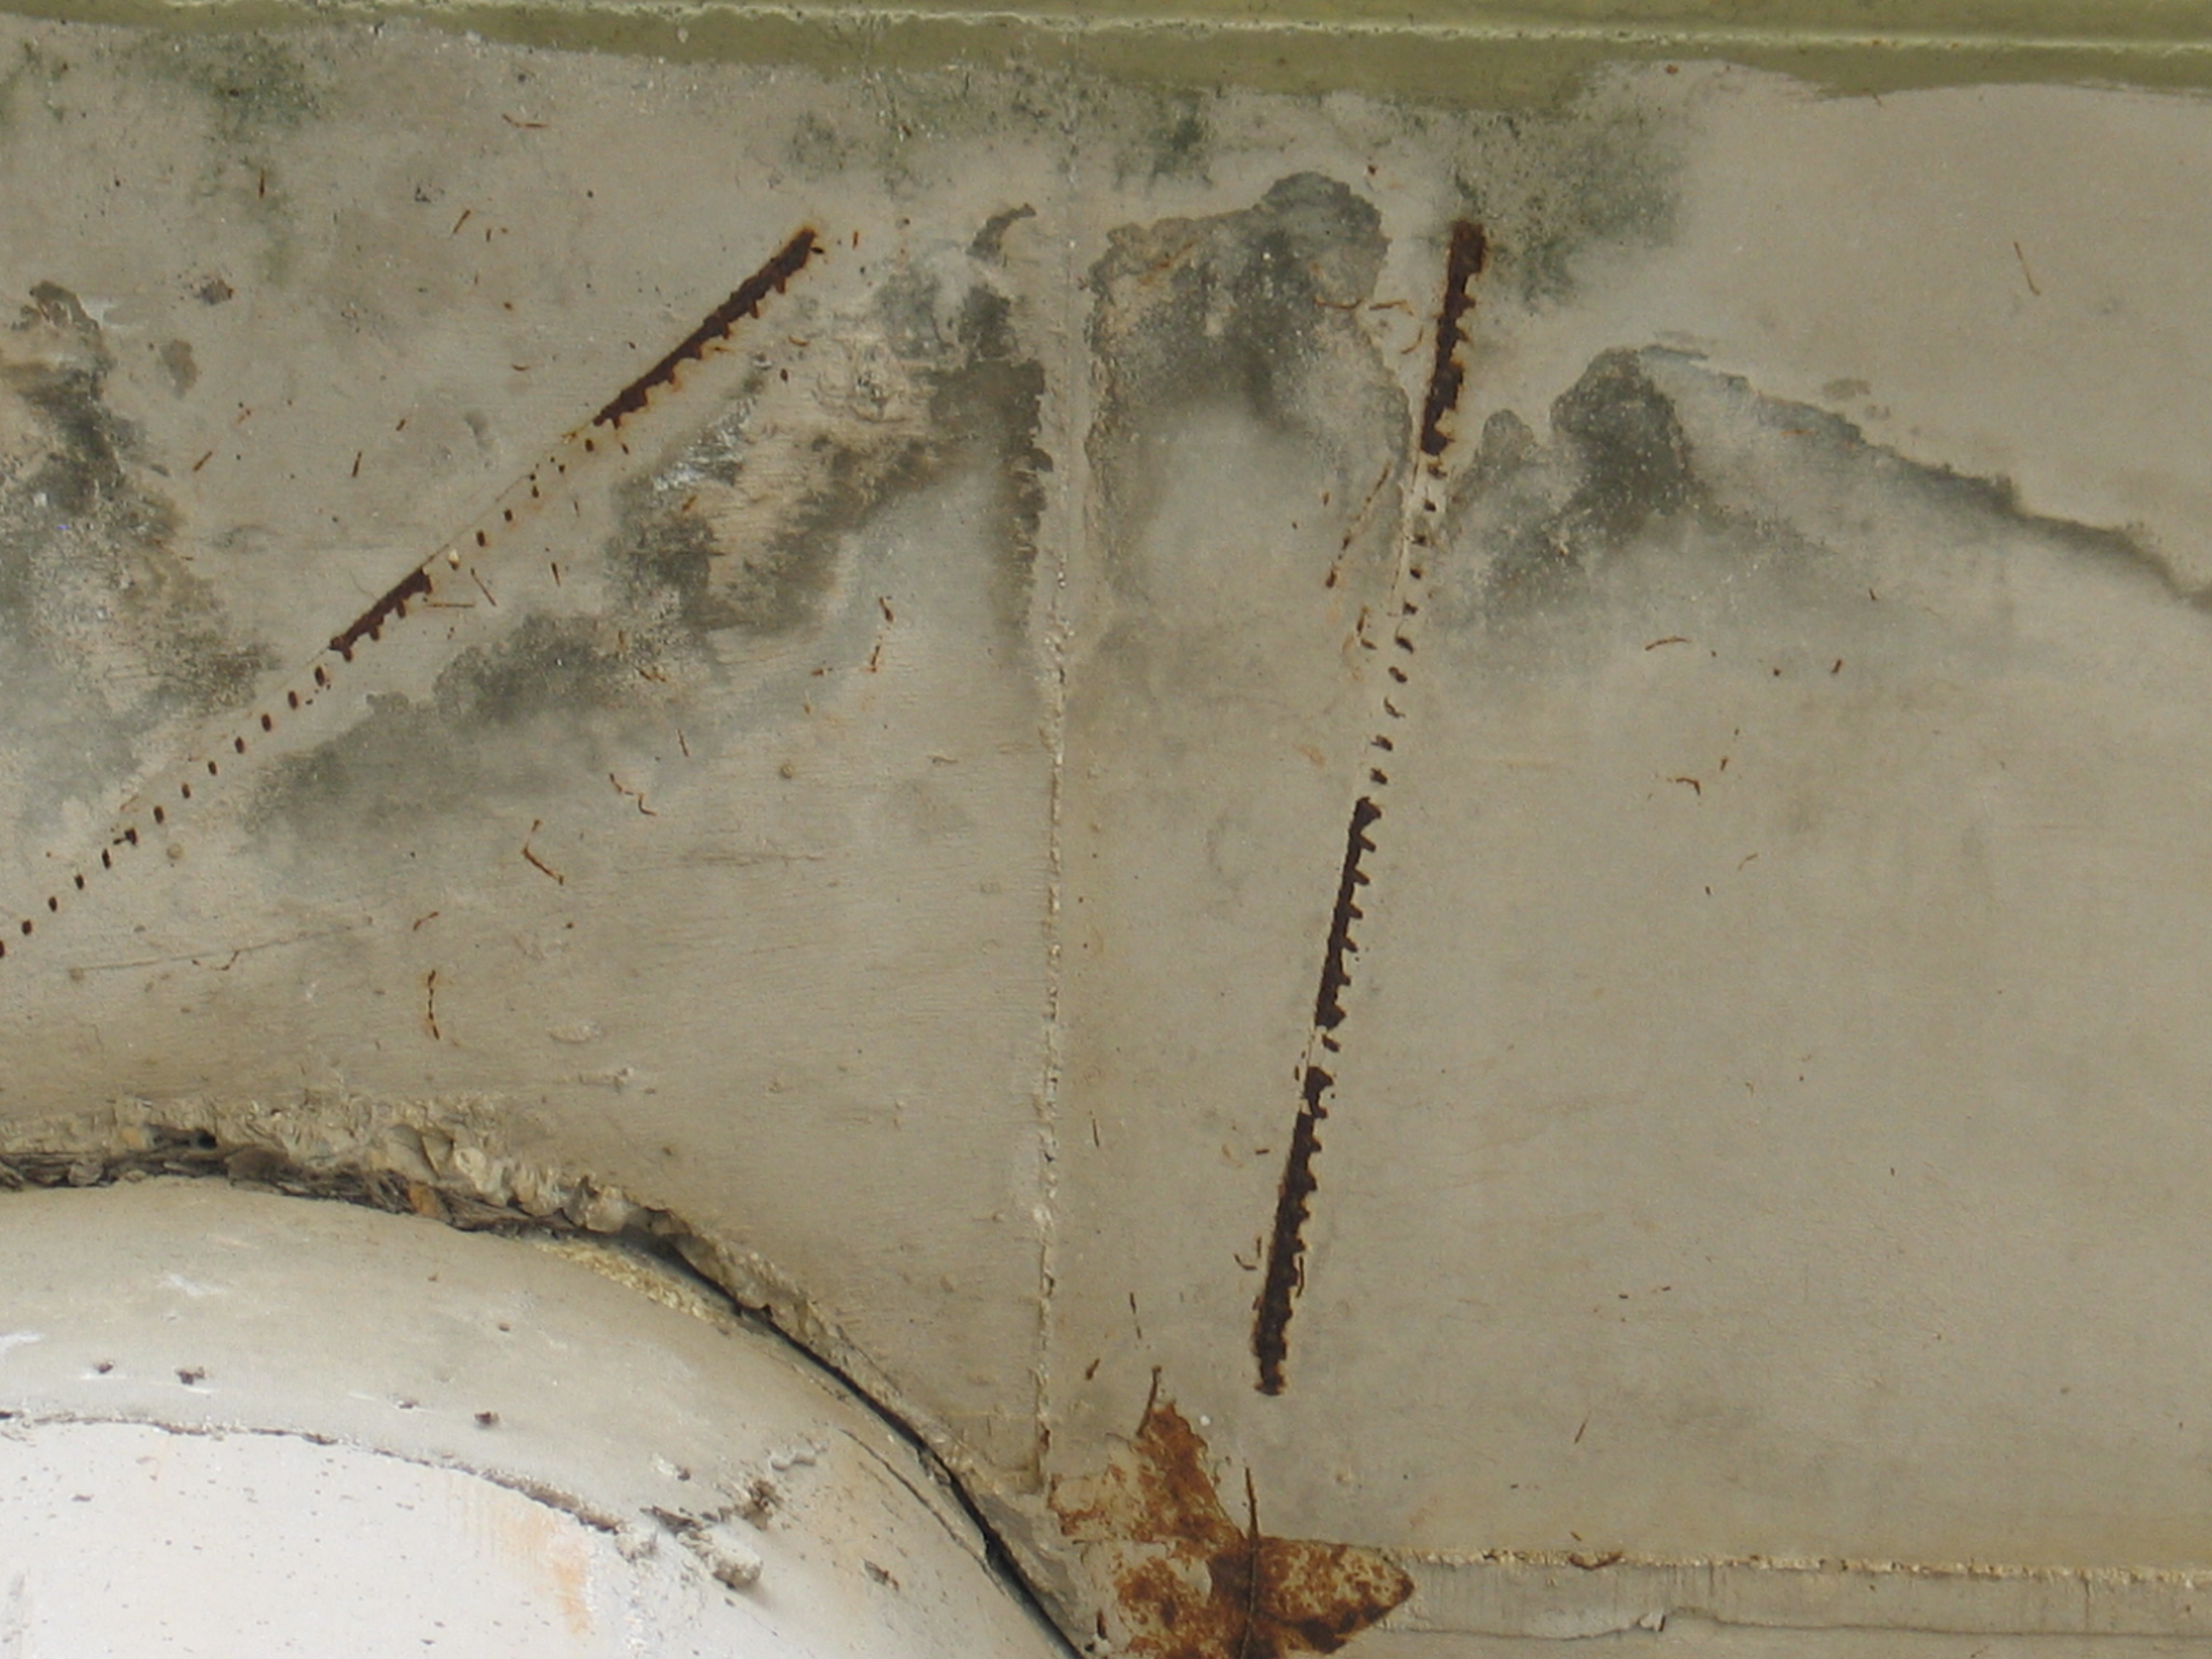defect: (0, 225, 827, 965), (1242, 216, 1491, 1396)
